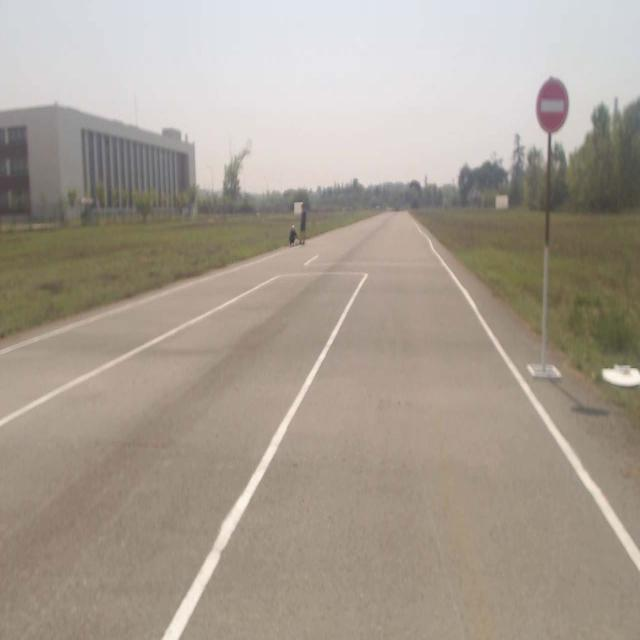girisyok: (536, 76, 570, 132)
